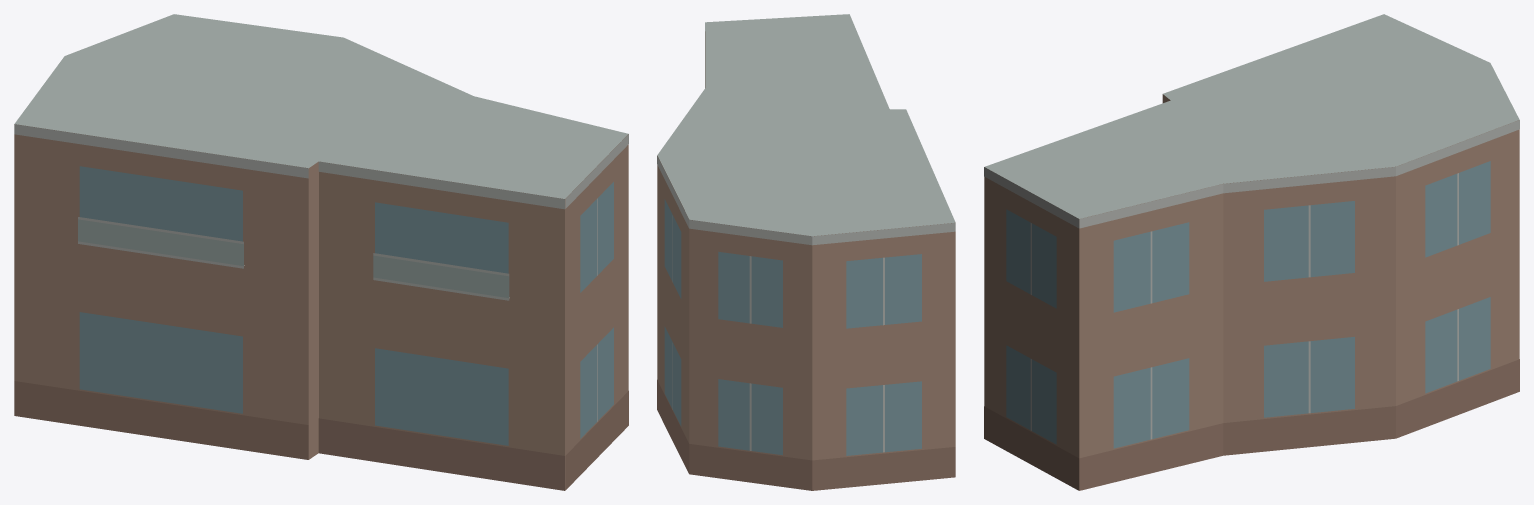
The model's file is survey-upis-32494583.glb.
The picture shows the model from 3 angles, left to right: view 1: azimuth 30°, elevation 25°; view 2: azimuth 150°, elevation 25°; view 3: azimuth 270°, elevation 25°; orthographic projection. The views are drawn at different scales.
Parts seen in each view (by area): view 1: survey-upis-32494583.tmp; view 2: survey-upis-32494583.tmp; view 3: survey-upis-32494583.tmp.
Boxes of the visible parts, <box> form: survey-upis-32494583.tmp: <box>14,14,628,490</box>; survey-upis-32494583.tmp: <box>657,14,955,490</box>; survey-upis-32494583.tmp: <box>984,14,1519,490</box>.
Size of the model in its own units: 11.17 by 6.9 by 12.33.
